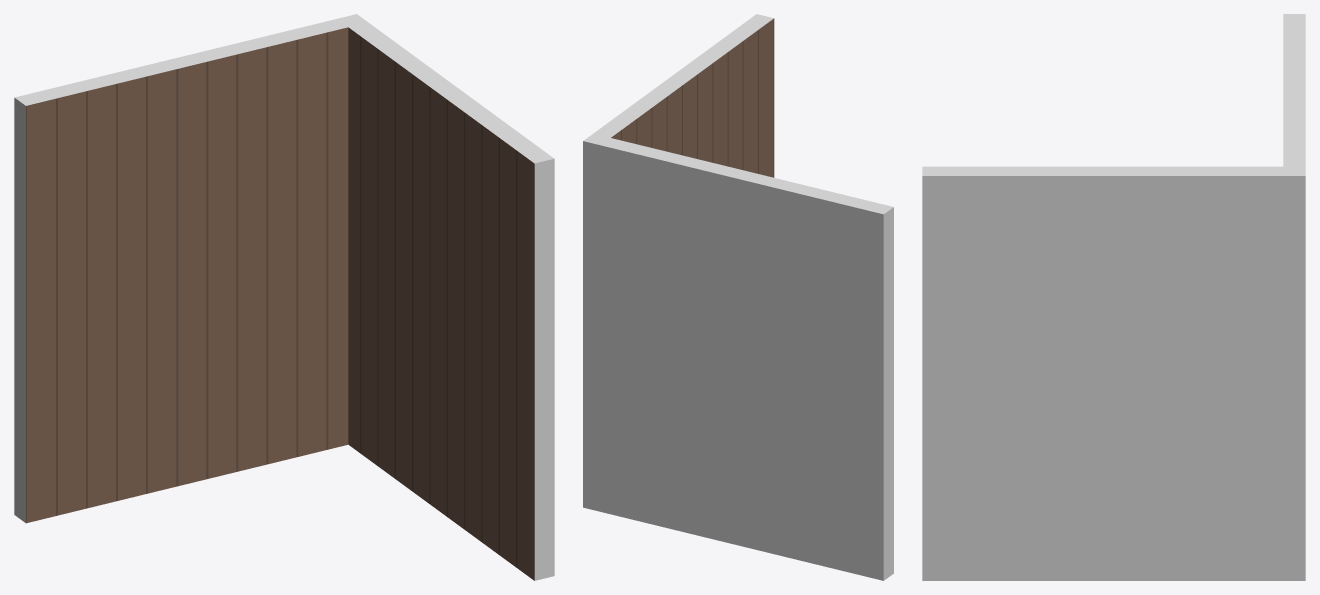
File: Wall1_C9_06.fbx
3 views of the same model, side by side, from view 1: azimuth 30°, elevation 25°; view 2: azimuth 150°, elevation 25°; view 3: azimuth 270°, elevation 25° (orthographic). The views are drawn at different scales.
Parts seen in each view (by area): view 1: Wall1_C9_06; view 2: Wall1_C9_06; view 3: Wall1_C9_06.
Boxes of the visible parts, <box> form: Wall1_C9_06: <box>14,14,554,580</box>; Wall1_C9_06: <box>583,14,893,580</box>; Wall1_C9_06: <box>922,14,1305,580</box>.
Bounding box in the file's own units: 258 × 300 × 258.
